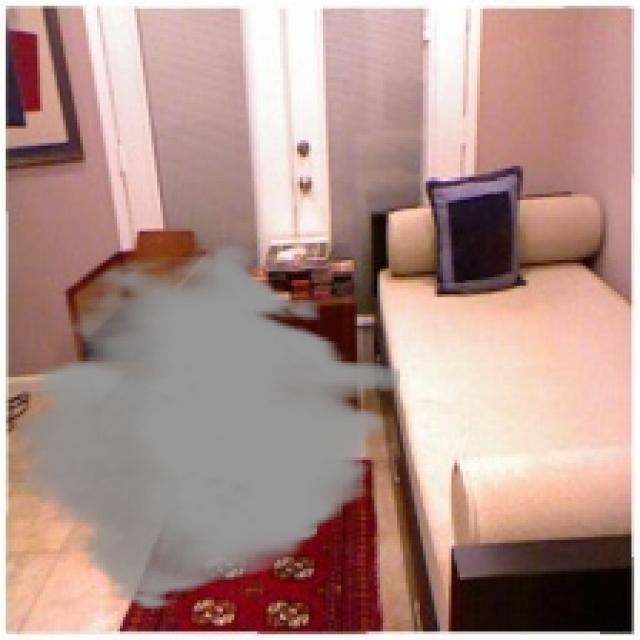smoke: (11, 243, 400, 611)
